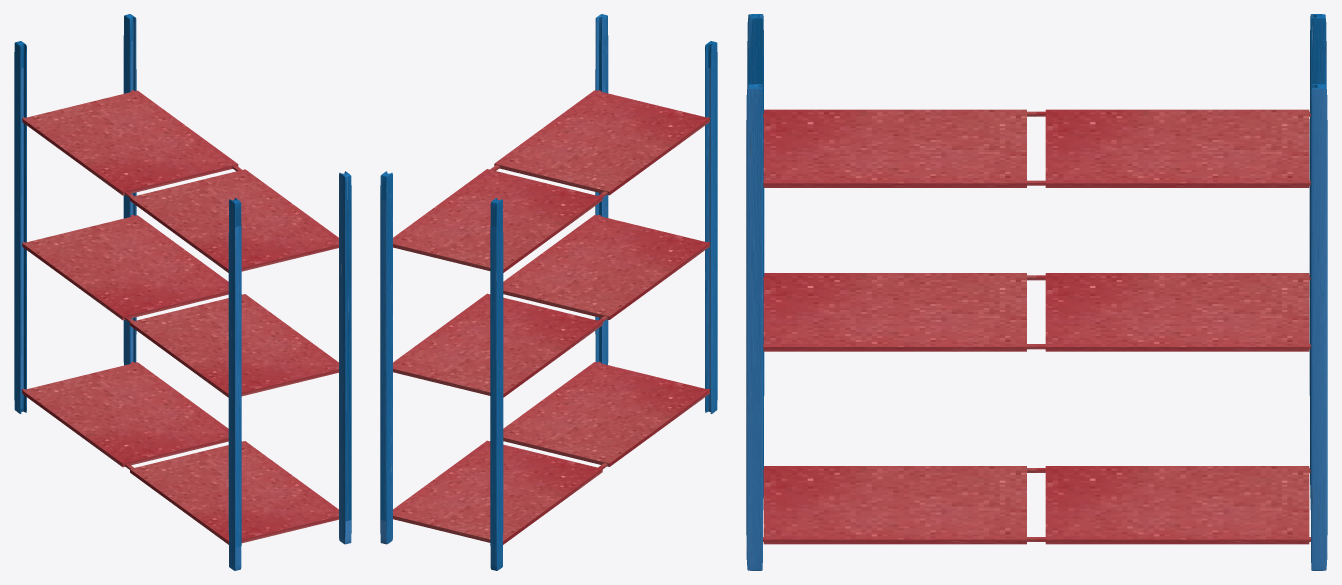
Rendered from ShelvesLong.fbx.
The picture shows the model from 3 angles, left to right: view 1: azimuth 30°, elevation 25°; view 2: azimuth 150°, elevation 25°; view 3: azimuth 270°, elevation 25°; orthographic projection. The views are drawn at different scales.
Parts seen in each view (by area): view 1: pasted__pCube7, pasted__pCube12, pasted__pCube9, pasted__pCube8, pasted__pCube11, pasted__pCube10, pCube7, pCube1, pCube8, pCube9; view 2: pasted__pCube8, pasted__pCube10, pasted__pCube11, pasted__pCube7, pasted__pCube12, pasted__pCube9, pCube8, pCube9, pCube7, pCube1; view 3: pasted__pCube9, pasted__pCube7, pasted__pCube12, pasted__pCube10, pasted__pCube8, pasted__pCube11, pCube1, pCube9, pCube8, pCube7.
Part boxes in pixels (x1=…): pasted__pCube7: x1=22, y1=90, x2=239, y2=196; pasted__pCube12: x1=22, y1=362, x2=228, y2=468; pasted__pCube9: x1=22, y1=215, x2=228, y2=321; pasted__pCube8: x1=128, y1=168, x2=338, y2=272; pasted__pCube11: x1=128, y1=441, x2=338, y2=544; pasted__pCube10: x1=128, y1=294, x2=338, y2=397; pCube7: x1=228, y1=198, x2=241, y2=570; pCube1: x1=339, y1=171, x2=351, y2=544; pCube8: x1=14, y1=41, x2=26, y2=413; pCube9: x1=123, y1=14, x2=136, y2=365; pasted__pCube8: x1=493, y1=90, x2=709, y2=196; pasted__pCube10: x1=503, y1=215, x2=709, y2=320; pasted__pCube11: x1=503, y1=362, x2=709, y2=467; pasted__pCube7: x1=393, y1=167, x2=604, y2=272; pasted__pCube12: x1=393, y1=440, x2=604, y2=544; pasted__pCube9: x1=393, y1=293, x2=604, y2=397; pCube8: x1=490, y1=198, x2=503, y2=570; pCube9: x1=380, y1=171, x2=392, y2=544; pCube7: x1=705, y1=41, x2=717, y2=413; pCube1: x1=595, y1=14, x2=608, y2=364; pasted__pCube9: x1=1036, y1=273, x2=1310, y2=351; pasted__pCube7: x1=1036, y1=109, x2=1310, y2=187; pasted__pCube12: x1=1036, y1=466, x2=1310, y2=544; pasted__pCube10: x1=763, y1=273, x2=1036, y2=351; pasted__pCube8: x1=763, y1=109, x2=1036, y2=187; pasted__pCube11: x1=763, y1=466, x2=1036, y2=544; pCube1: x1=746, y1=84, x2=763, y2=570; pCube9: x1=1310, y1=84, x2=1327, y2=570; pCube8: x1=1309, y1=14, x2=1326, y2=498; pCube7: x1=747, y1=14, x2=764, y2=498.
Bounding box in the file's own units: 6.09 × 18.28 × 19.93.
Materials: 2 (2 with a texture image).
